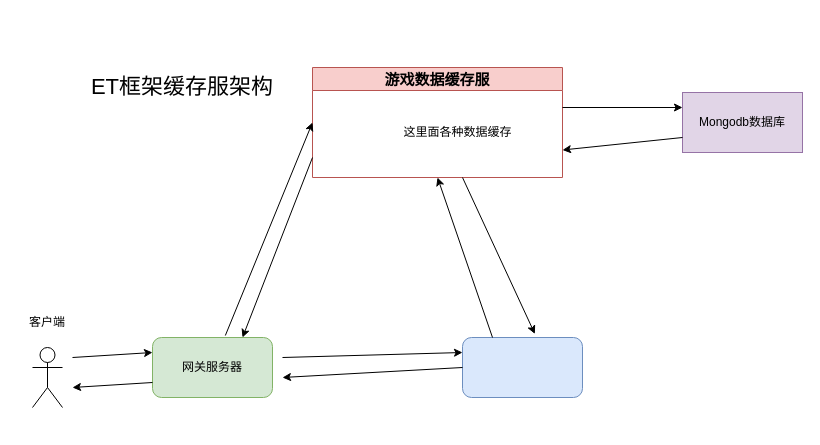
The diagram is 820 pixels wide and 445 high, and some of its shapes have lost their labels. Here are the shapes that lost their labels. From the top down, the centre of each, then its label:
At (47,377): "Actor".
At (522,367): "Mao游戏服务器".
